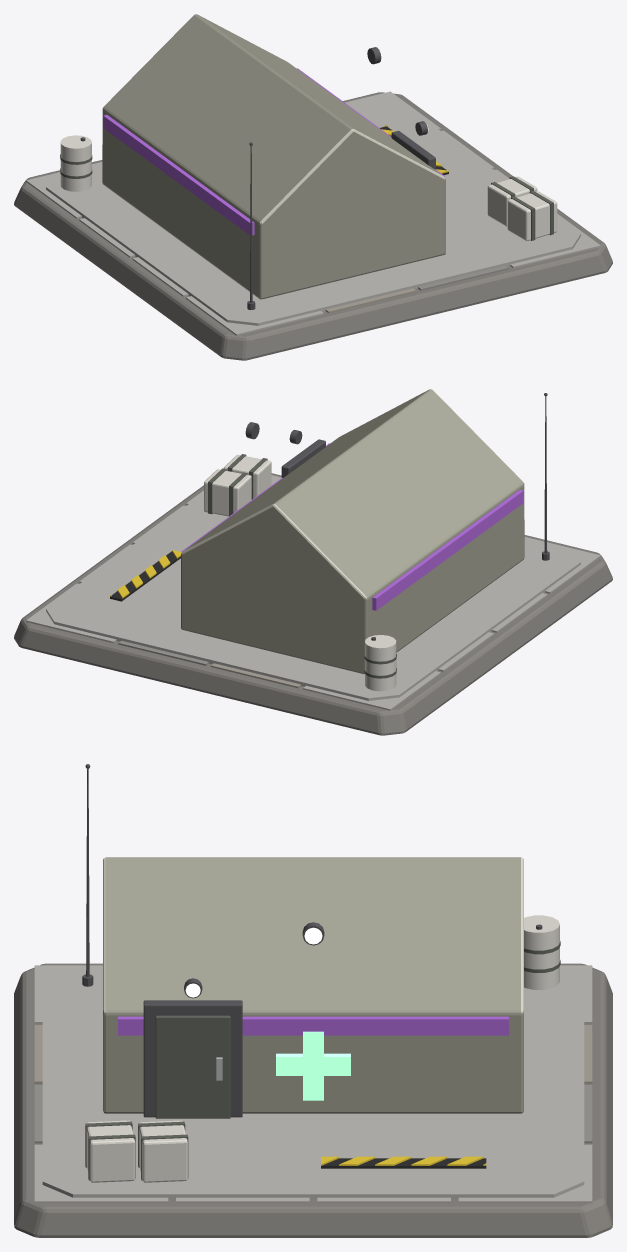
File: field_hospital_purple.glb
3 renders of one model, top to bottom at view 1: azimuth 30°, elevation 25°; view 2: azimuth 150°, elevation 25°; view 3: azimuth 270°, elevation 25°, orthographic. The views are drawn at different scales.
Visible parts, largest first — view 1: Body; view 2: Body; view 3: Body.
Part boxes in pixels (x1,y1,x2,y2): Body: [14, 14, 612, 360]; Body: [14, 389, 612, 735]; Body: [14, 764, 612, 1237].
Size of the model in its own units: 3.98 by 1.86 by 3.98.
Materials: 1 (1 with a texture image).
